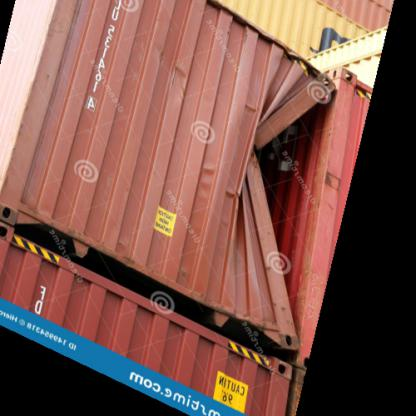Damage: (197, 78, 357, 320)
